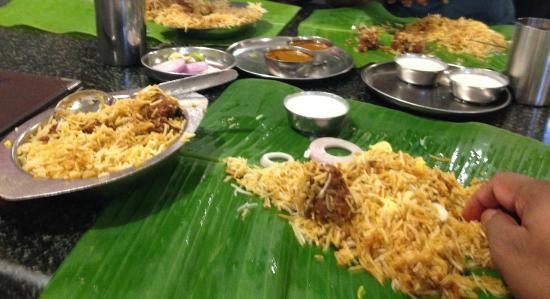Biryani: (225, 140, 506, 299), (18, 83, 189, 183)
